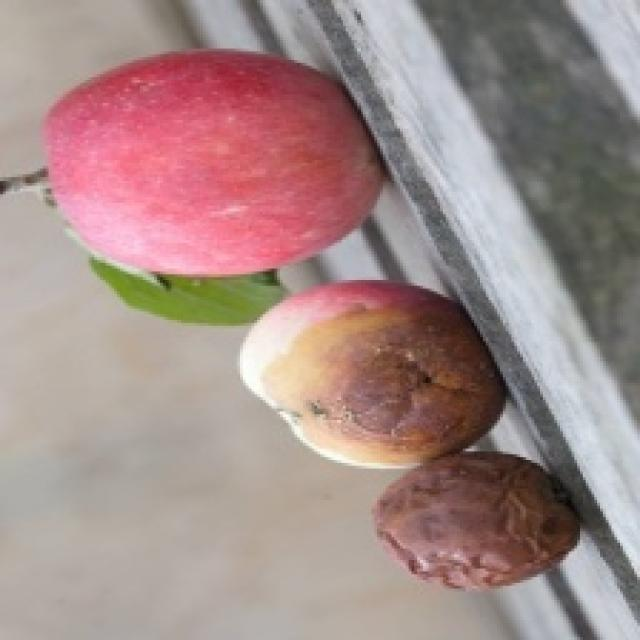apple: (45, 50, 379, 278), (242, 281, 503, 467), (374, 452, 579, 588)
